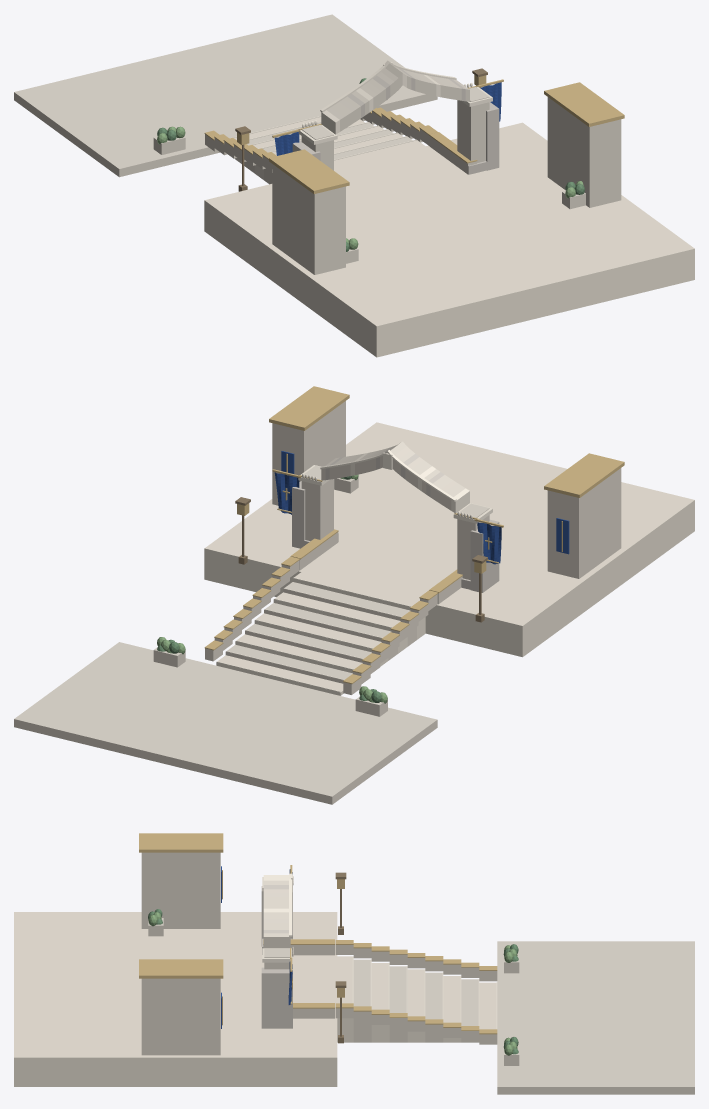
Rendered from AOTL_Citadel_ArtFallback_v15.glb.
3 views of the same model, one above another, from view 1: azimuth 30°, elevation 25°; view 2: azimuth 150°, elevation 25°; view 3: azimuth 270°, elevation 25° (orthographic). The views are drawn at different scales.
Parts seen in each view (by area): view 1: ENV_UpperStoneCourt, ENV_LowerStoneCourt, ENV_TerracePilaster_L, ENV_TerracePilaster_R, ENV_TerraceCoping_L, ENV_TerraceCoping_R, GATE_Pier_R, STAIR_UpperLanding, GATE_PierSideButtress_R, STAIR_Tread_09, GATE_Pier_L; view 2: ENV_UpperStoneCourt, ENV_LowerStoneCourt, ENV_TerracePilaster_L, STAIR_UpperLanding, ENV_TerracePilaster_R, ENV_TerraceCoping_L, ENV_TerraceCoping_R, GATE_Pier_R, STAIR_Tread_08, STAIR_Tread_07, STAIR_Tread_01, STAIR_Tread_06 (+10 smaller); view 3: ENV_UpperStoneCourt, ENV_LowerStoneCourt, ENV_TerracePilaster_R, ENV_TerracePilaster_L, GATE_PierSideButtress_R, ENV_TerraceCoping_L, ENV_TerraceCoping_R, STAIR_Tread_08, STAIR_Tread_07, STAIR_Tread_06, STAIR_UpperLanding, STAIR_Tread_05 (+9 smaller).
Part boxes in pixels (<box>): ENV_UpperStoneCourt: <box>204,122,694,357</box>; ENV_LowerStoneCourt: <box>14,14,437,177</box>; ENV_TerracePilaster_L: <box>272,164,345,274</box>; ENV_TerracePilaster_R: <box>547,97,621,207</box>; ENV_TerraceCoping_L: <box>269,149,349,193</box>; ENV_TerraceCoping_R: <box>544,82,624,126</box>; GATE_Pier_R: <box>457,87,489,162</box>; STAIR_UpperLanding: <box>340,147,454,170</box>; GATE_PierSideButtress_R: <box>486,102,499,170</box>; STAIR_Tread_09: <box>334,140,425,168</box>; GATE_Pier_L: <box>301,125,333,170</box>; ENV_UpperStoneCourt: <box>204,422,694,657</box>; ENV_LowerStoneCourt: <box>14,642,437,804</box>; ENV_TerracePilaster_L: <box>547,468,621,578</box>; STAIR_UpperLanding: <box>304,543,454,599</box>; ENV_TerracePilaster_R: <box>272,401,345,505</box>; ENV_TerraceCoping_L: <box>544,453,624,497</box>; ENV_TerraceCoping_R: <box>269,386,349,430</box>; GATE_Pier_R: <box>301,465,333,541</box>; STAIR_Tread_08: <box>283,582,416,646</box>; STAIR_Tread_07: <box>273,592,407,653</box>; STAIR_Tread_01: <box>216,655,343,695</box>; STAIR_Tread_06: <box>264,603,397,660</box>; ENV_UpperStoneCourt: <box>14,912,337,1086</box>; ENV_LowerStoneCourt: <box>497,941,694,1094</box>; ENV_TerracePilaster_R: <box>141,978,220,1055</box>; ENV_TerracePilaster_L: <box>141,852,220,928</box>; GATE_PierSideButtress_R: <box>261,967,292,1028</box>; ENV_TerraceCoping_L: <box>139,833,223,852</box>; ENV_TerraceCoping_R: <box>139,959,223,978</box>; STAIR_Tread_08: <box>353,959,371,1042</box>; STAIR_Tread_07: <box>371,963,389,1042</box>; STAIR_Tread_06: <box>389,966,407,1042</box>; STAIR_UpperLanding: <box>293,965,335,1013</box>; STAIR_Tread_05: <box>407,969,425,1042</box>.
Bounding box in the file's own units: 19.2 × 9.11 × 37.9.
